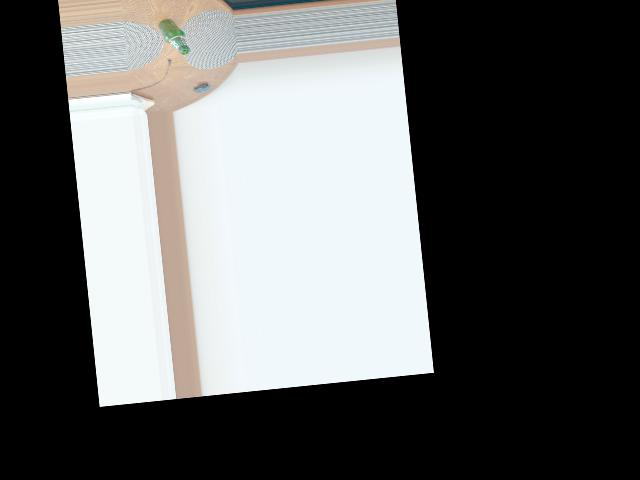beer: (156, 16, 190, 56)
